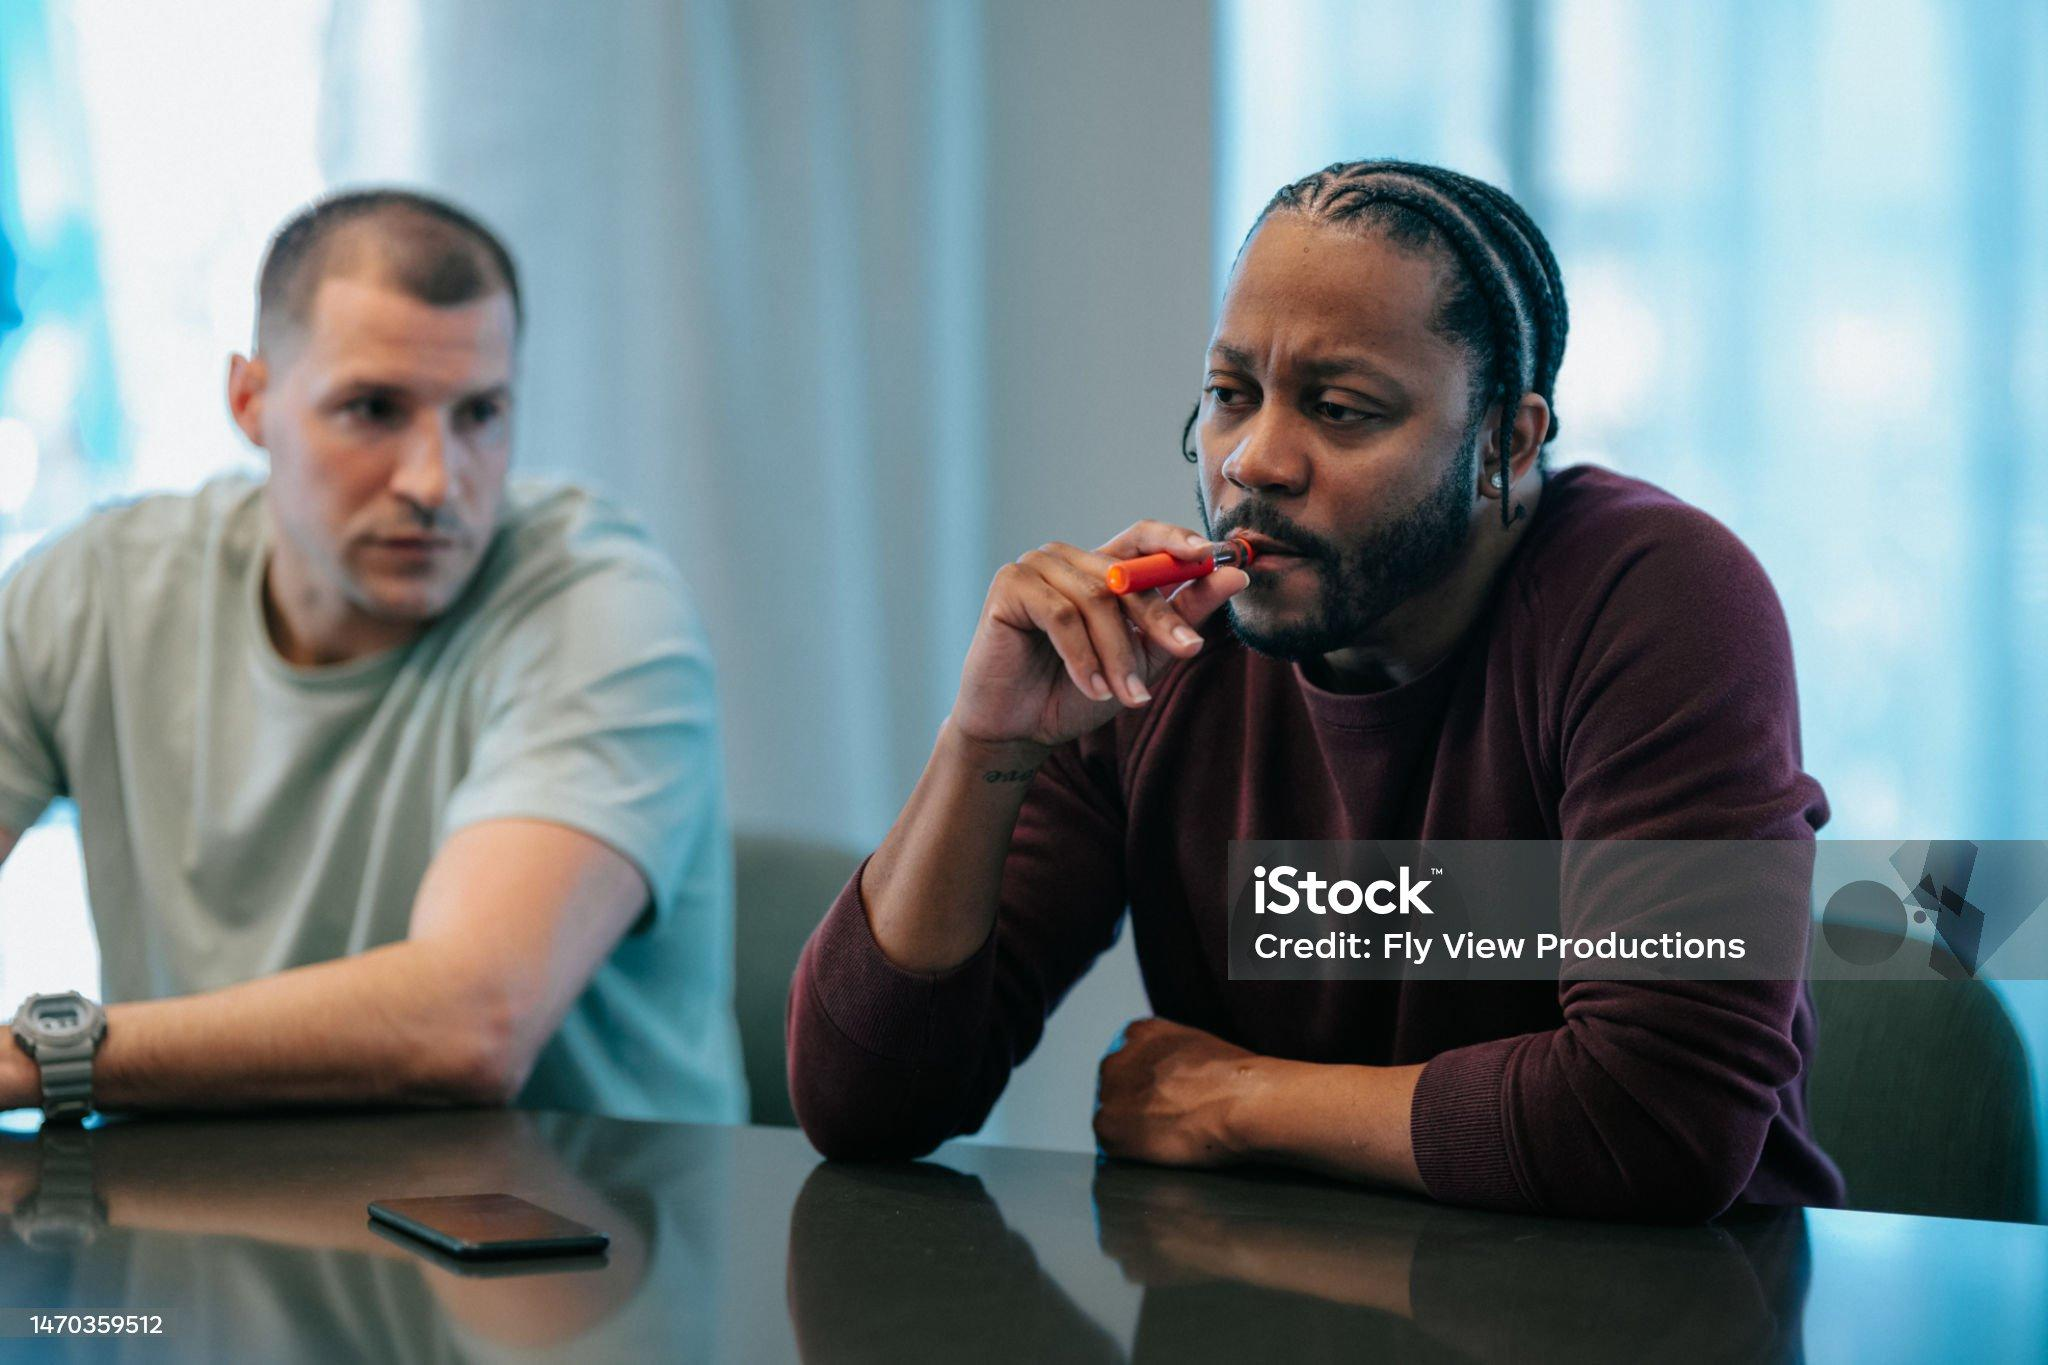Vape: (1105, 538, 1255, 596)
